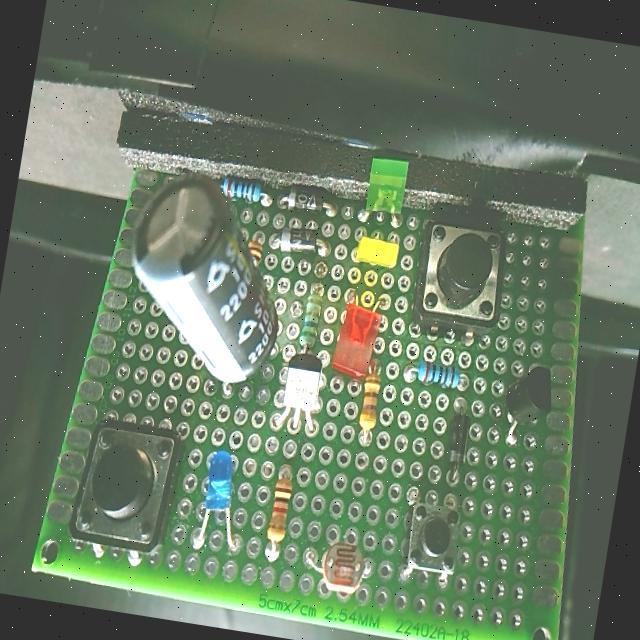Electrolytic capacitor: (109, 155, 302, 402)
cds: (314, 536, 376, 602)
diode: (438, 401, 482, 479), (280, 178, 328, 216), (280, 224, 324, 258)
led: (194, 449, 242, 517)
resistor: (258, 476, 302, 552), (348, 368, 385, 454), (292, 286, 328, 356), (215, 170, 269, 214), (406, 353, 464, 392), (244, 228, 272, 276)
switch: (68, 410, 188, 570), (406, 208, 515, 348), (394, 490, 468, 579)
transistor: (354, 142, 419, 228), (492, 362, 560, 435), (330, 296, 386, 379), (272, 354, 327, 430), (346, 232, 403, 278)
